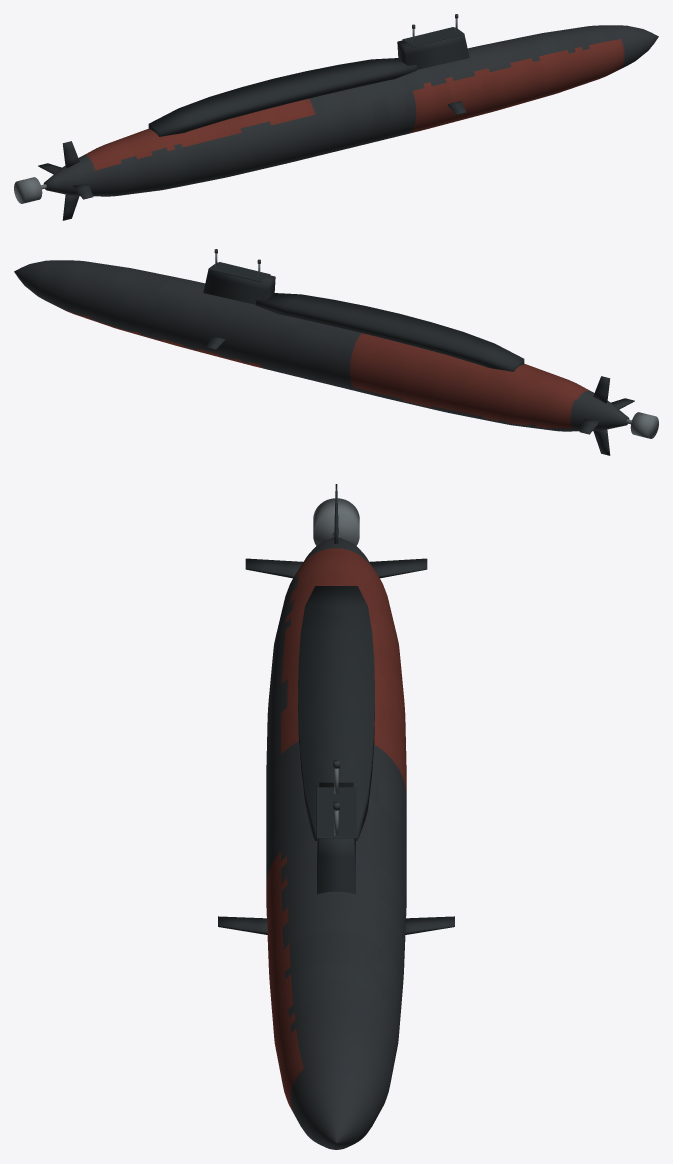
File: IN_SSBN_Arihant.glb
3 renders of one model, top to bottom at view 1: azimuth 30°, elevation 25°; view 2: azimuth 150°, elevation 25°; view 3: azimuth 270°, elevation 25°, orthographic. The views are drawn at different scales.
Visible parts, largest first — view 1: IN_SSBN_Arihant_LOD0; view 2: IN_SSBN_Arihant_LOD0; view 3: IN_SSBN_Arihant_LOD0.
Part boxes in pixels (left/top/right/bottom): IN_SSBN_Arihant_LOD0: left=14, top=14, right=658, bottom=220; IN_SSBN_Arihant_LOD0: left=14, top=249, right=658, bottom=455; IN_SSBN_Arihant_LOD0: left=218, top=484, right=454, bottom=1149.
Bounding box in the file's own units: 116 × 19 × 18.57.
Materials: 6 (1 with a texture image).
